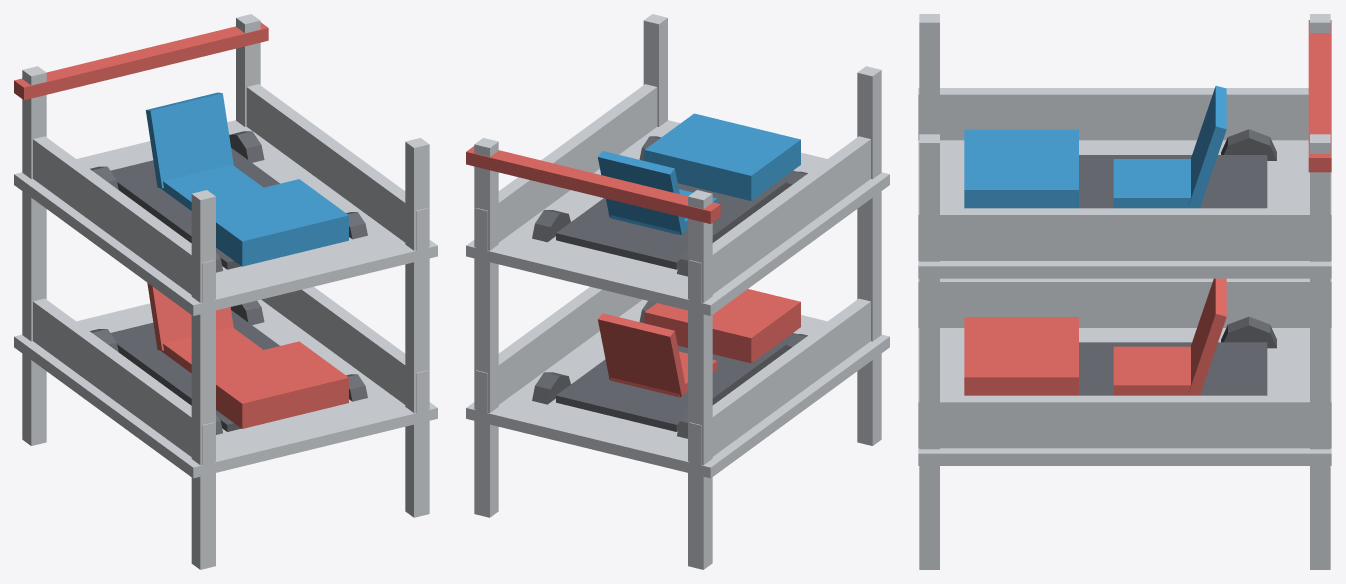
File: go-kart-track-and-pit-lane-kart-storage-rack-86c8ac34__34349.glb
3 renders of one model, left to right at view 1: azimuth 30°, elevation 25°; view 2: azimuth 150°, elevation 25°; view 3: azimuth 270°, elevation 25°, orthographic. The views are drawn at different scales.
Visible parts, largest first — view 1: kart-storage-rack-steel, kart-storage-rack-red, kart-storage-rack-azure, kart-storage-rack-charcoal; view 2: kart-storage-rack-steel, kart-storage-rack-red, kart-storage-rack-charcoal, kart-storage-rack-azure; view 3: kart-storage-rack-steel, kart-storage-rack-red, kart-storage-rack-azure, kart-storage-rack-charcoal.
Part boxes in pixels (left/top/right/bottom): kart-storage-rack-steel: left=14, top=14, right=437, bottom=569; kart-storage-rack-red: left=14, top=22, right=348, bottom=428; kart-storage-rack-azure: left=145, top=92, right=348, bottom=266; kart-storage-rack-charcoal: left=90, top=131, right=367, bottom=434; kart-storage-rack-steel: left=466, top=14, right=889, bottom=569; kart-storage-rack-red: left=466, top=146, right=800, bottom=397; kart-storage-rack-charcoal: left=532, top=136, right=807, bottom=438; kart-storage-rack-azure: left=598, top=113, right=800, bottom=234; kart-storage-rack-steel: left=918, top=14, right=1331, bottom=569; kart-storage-rack-red: left=964, top=20, right=1331, bottom=395; kart-storage-rack-azure: left=964, top=85, right=1226, bottom=208; kart-storage-rack-charcoal: left=1079, top=129, right=1276, bottom=395.
Size of the model in its own units: 1.42 by 2.05 by 1.8.
